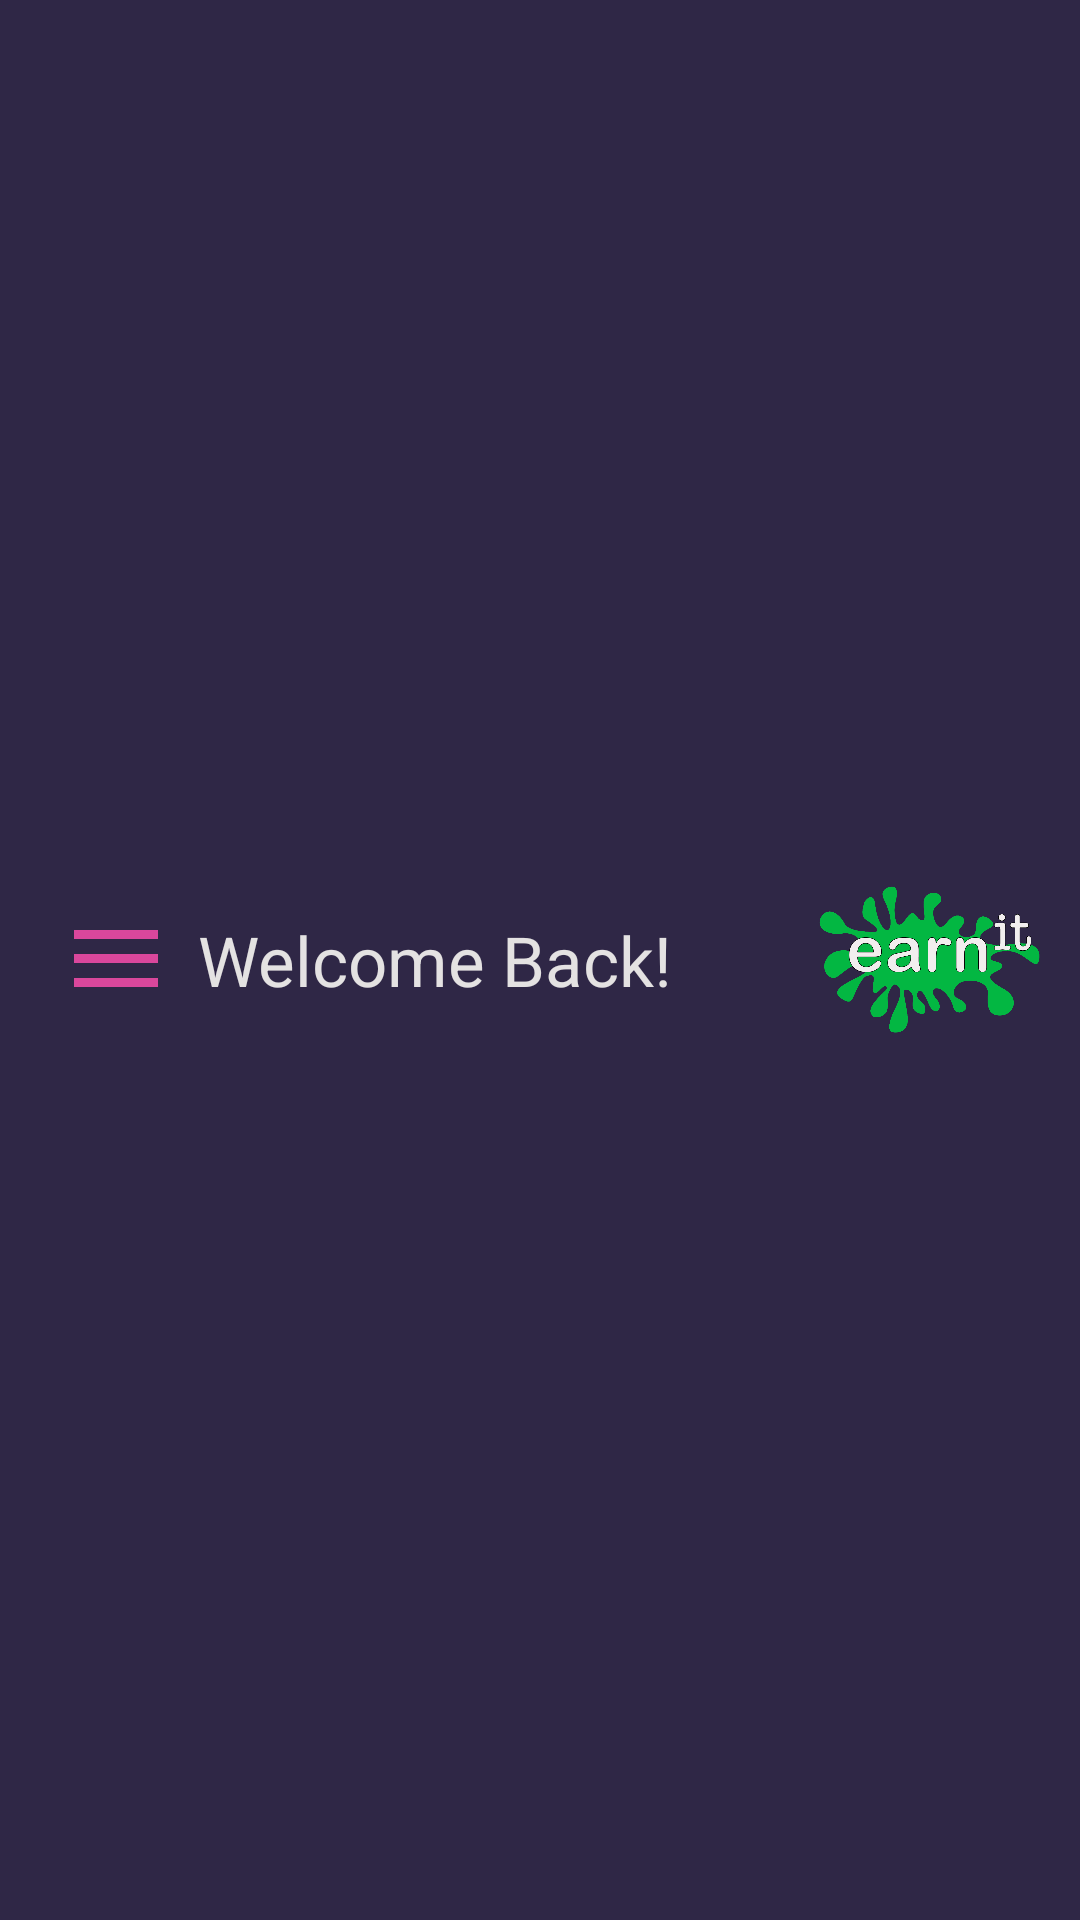

Point at icon controls on the screen. Image size 1080x1920, points as (x,y).
menu: (116,958)
